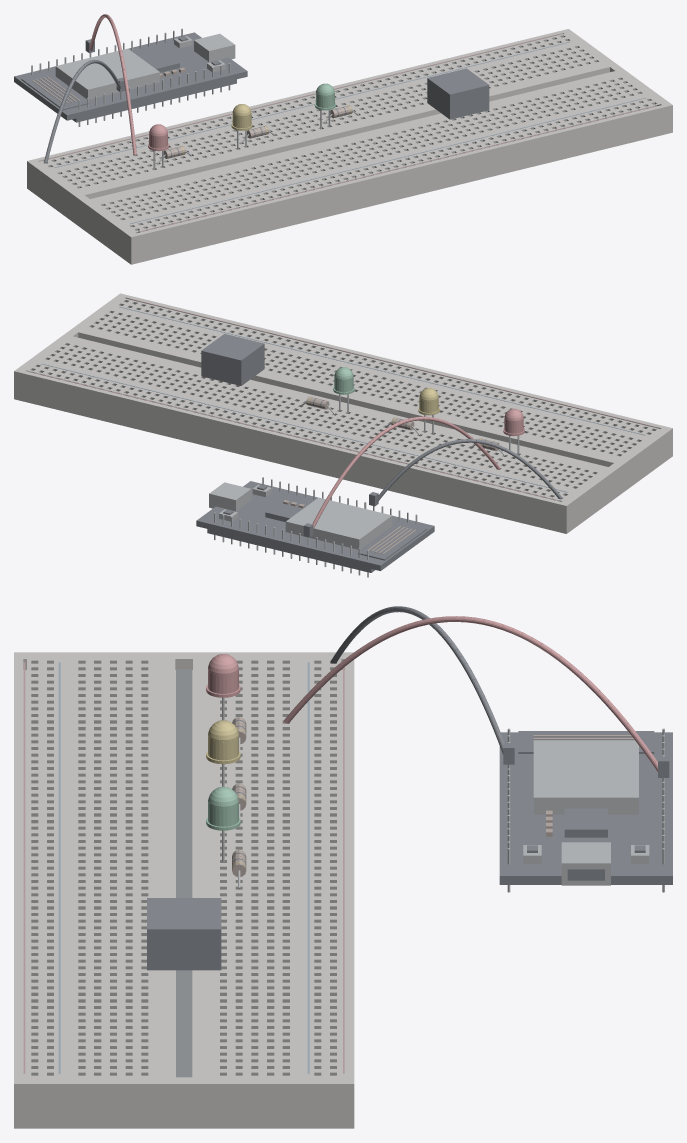
The model's file is step-11.glb.
3 views of the same model, one above another, from view 1: azimuth 30°, elevation 25°; view 2: azimuth 150°, elevation 25°; view 3: azimuth 270°, elevation 25° (orthographic). The views are drawn at different scales.
Visible parts, largest first — view 1: breadboard__mesh, uno__mesh, button__mesh, wire_red_signal__mesh, wire_ground__mesh, led_green__mesh, led_red__mesh, led_yellow__mesh; view 2: breadboard__mesh, uno__mesh, button__mesh, wire_red_signal__mesh, wire_ground__mesh, led_red__mesh, led_green__mesh, led_yellow__mesh; view 3: breadboard__mesh, uno__mesh, button__mesh, wire_red_signal__mesh, wire_ground__mesh, led_green__mesh, led_yellow__mesh, led_red__mesh.
Boxes of the visible parts, box(x1,y1,x2,y2) form: breadboard__mesh: box(27, 29, 672, 264); uno__mesh: box(14, 28, 247, 126); button__mesh: box(427, 68, 489, 119); wire_red_signal__mesh: box(85, 14, 136, 155); wire_ground__mesh: box(44, 59, 125, 162); led_green__mesh: box(314, 83, 335, 128); led_red__mesh: box(148, 124, 169, 169); led_yellow__mesh: box(231, 104, 252, 148); breadboard__mesh: box(14, 293, 672, 533); uno__mesh: box(196, 477, 434, 577); button__mesh: box(201, 334, 264, 385); wire_red_signal__mesh: box(303, 416, 500, 537); wire_ground__mesh: box(369, 439, 561, 506); led_red__mesh: box(503, 408, 524, 454); led_green__mesh: box(333, 367, 354, 413); led_yellow__mesh: box(418, 388, 439, 433); breadboard__mesh: box(14, 652, 354, 1128); uno__mesh: box(499, 728, 672, 892); button__mesh: box(147, 898, 221, 970); wire_red_signal__mesh: box(284, 616, 669, 777); wire_ground__mesh: box(331, 606, 514, 764); led_green__mesh: box(206, 786, 240, 861); led_yellow__mesh: box(206, 720, 240, 786); led_red__mesh: box(206, 654, 240, 720).
Bounding box in the file's own units: 0.165 × 0.0316 × 0.1065.
